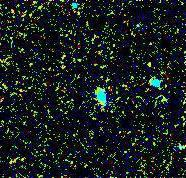star: (132, 71, 162, 101)
